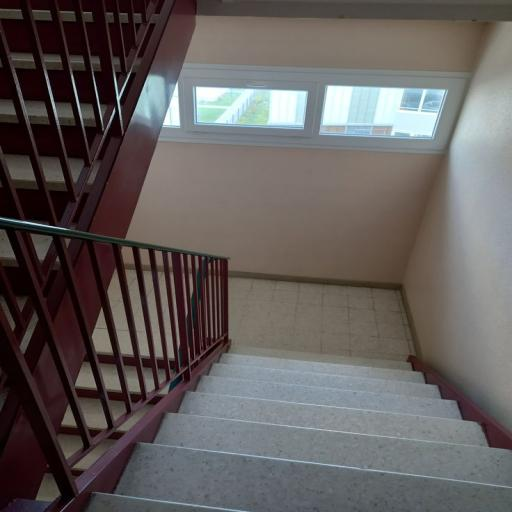sofa: (87, 348, 511, 511), (2, 0, 173, 375), (32, 334, 197, 507)
